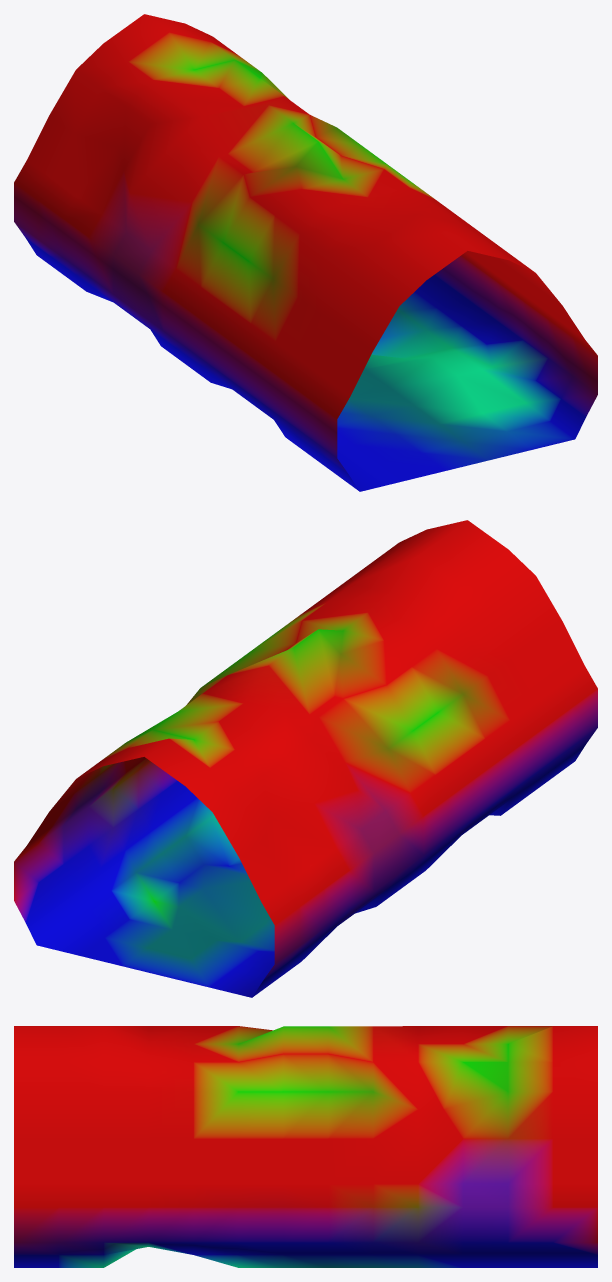
Rendered from Doto_landspace2.fbx.
3 views of the same model, one above another, from view 1: azimuth 30°, elevation 25°; view 2: azimuth 150°, elevation 25°; view 3: azimuth 270°, elevation 25° (orthographic). The views are drawn at different scales.
Parts seen in each view (by area): view 1: Plane.005; view 2: Plane.005; view 3: Plane.005.
Boxes of the visible parts, box(x1,y1,x2,y2) form: Plane.005: box(14, 14, 597, 491); Plane.005: box(14, 520, 597, 997); Plane.005: box(14, 1026, 597, 1267).
Bounding box in the file's own units: 6981 × 6000 × 15000.
